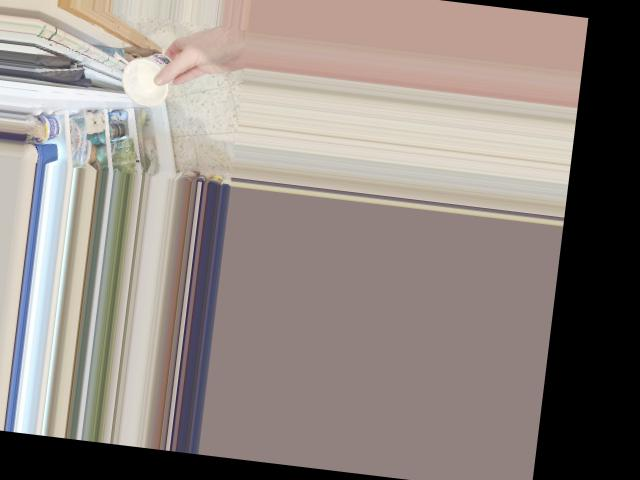cotage: (115, 45, 178, 109)
